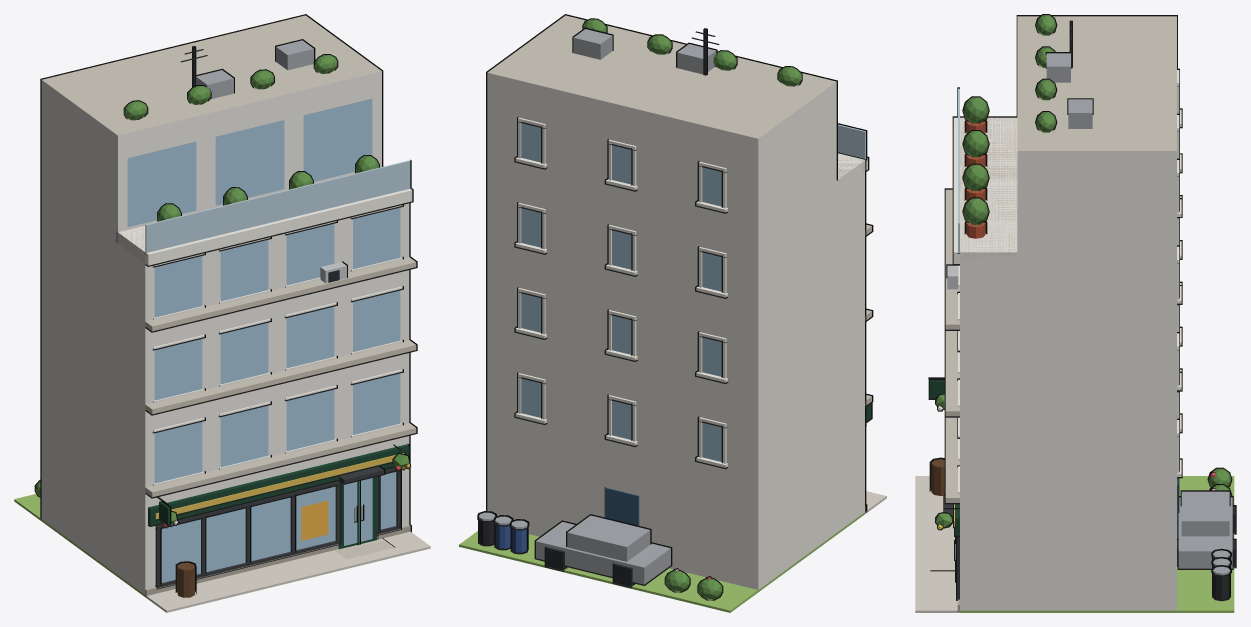
File: Blok_duz_5k_8.fbx
3 views of the same model, side by side, from view 1: azimuth 30°, elevation 25°; view 2: azimuth 150°, elevation 25°; view 3: azimuth 270°, elevation 25° (orthographic). The views are drawn at different scales.
Visible parts, largest first — view 1: Blok_duz_5k_8; view 2: Blok_duz_5k_8; view 3: Blok_duz_5k_8.
Part boxes in pixels (bbox=[...]): Blok_duz_5k_8: bbox=[14, 14, 430, 612]; Blok_duz_5k_8: bbox=[459, 14, 886, 612]; Blok_duz_5k_8: bbox=[915, 14, 1236, 612].
Bounding box in the file's own units: 10.06 × 17.68 × 10.07.
